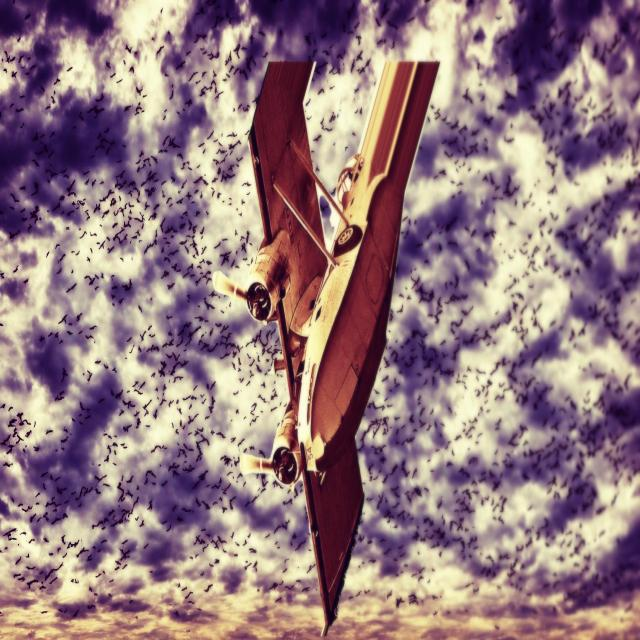airplane: (211, 56, 440, 636)
